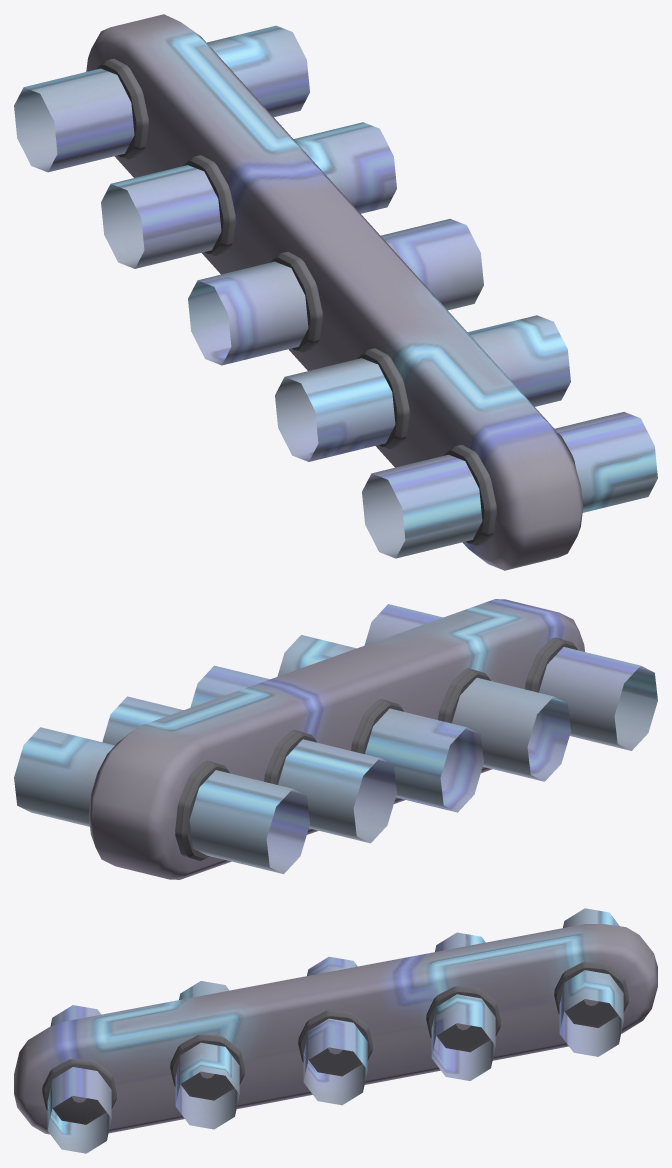
File: Space_CloudMid1.fbx
3 renders of one model, top to bottom at view 1: azimuth 30°, elevation 25°; view 2: azimuth 150°, elevation 25°; view 3: azimuth 270°, elevation 25°, orthographic. The views are drawn at different scales.
Visible parts, largest first — view 1: polySurface251; view 2: polySurface251; view 3: polySurface251.
Boxes of the visible parts, x1,y1,x2,y2 form: polySurface251: (14,14,657,570); polySurface251: (14,599,657,879); polySurface251: (14,908,657,1153).
Bounding box in the file's own units: 100 × 100 × 300.
